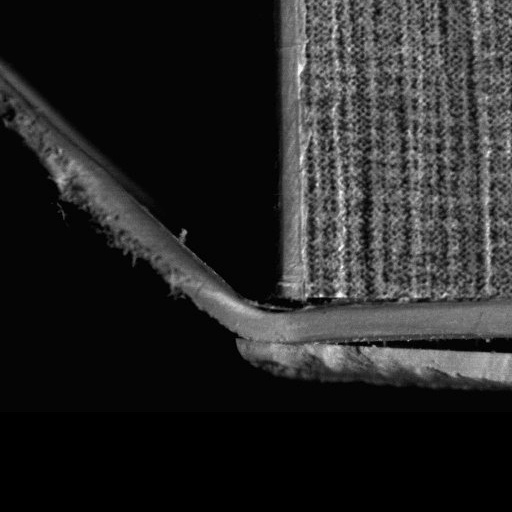kaijiao: (0, 58, 296, 340), (235, 302, 511, 393)
